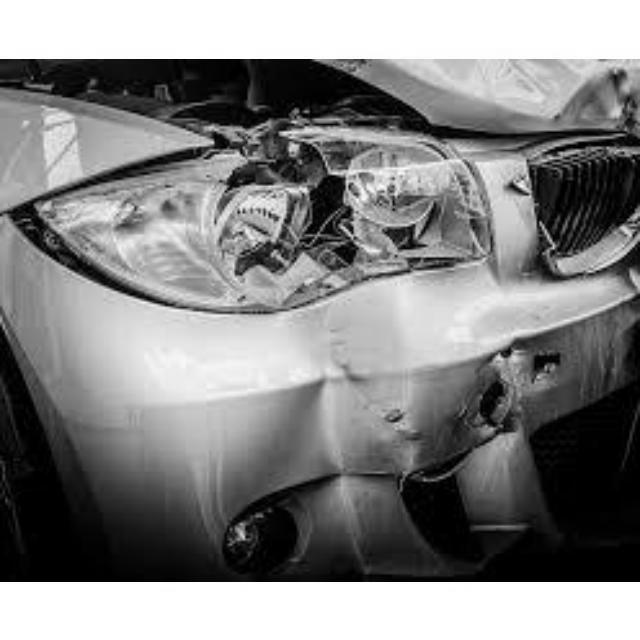Headlight-damage: (11, 116, 503, 301)
front-bumper-dent: (13, 303, 637, 571)
